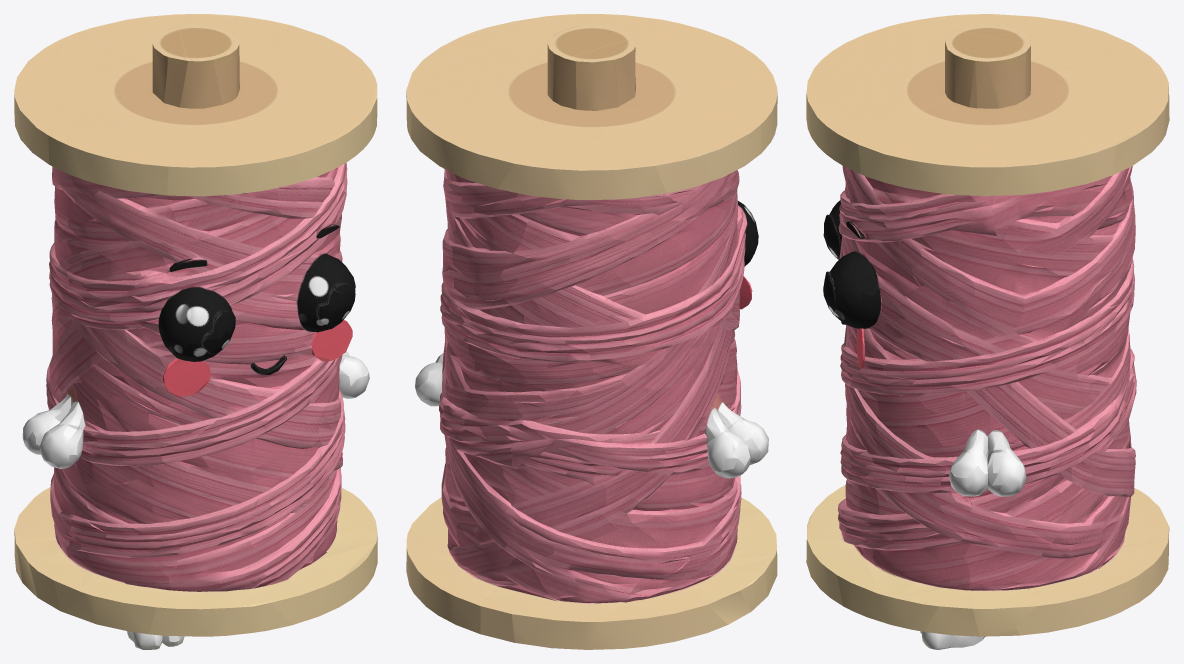
The model's file is ThreadVox.fbx.
The picture shows the model from 3 angles, left to right: view 1: azimuth 30°, elevation 25°; view 2: azimuth 150°, elevation 25°; view 3: azimuth 270°, elevation 25°; orthographic projection. The views are drawn at different scales.
Visible parts, largest first — view 1: output_unwrapped; view 2: output_unwrapped; view 3: output_unwrapped.
Boxes of the visible parts, bbox=[...] form: output_unwrapped: bbox=[14, 14, 377, 649]; output_unwrapped: bbox=[406, 14, 777, 649]; output_unwrapped: bbox=[806, 14, 1169, 649].
Size of the model in its own units: 59.88 by 100 by 58.13.
Materials: 1 (1 with a texture image).
